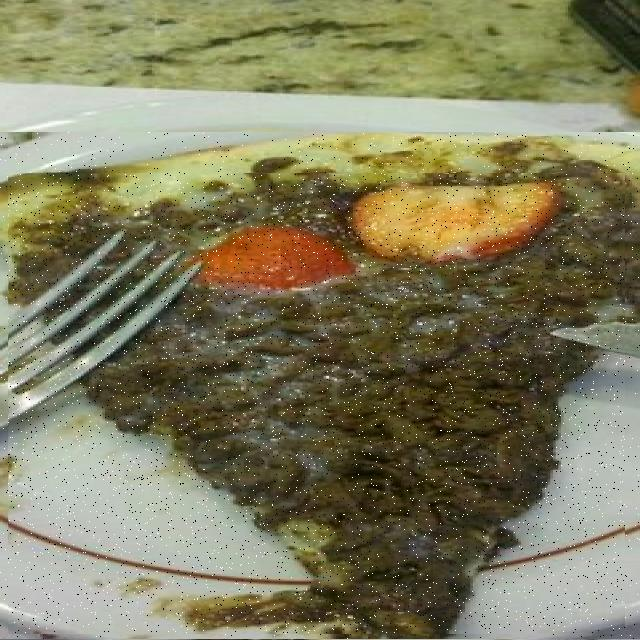Beef: (8, 174, 625, 633)
Pizza: (0, 132, 640, 640)
